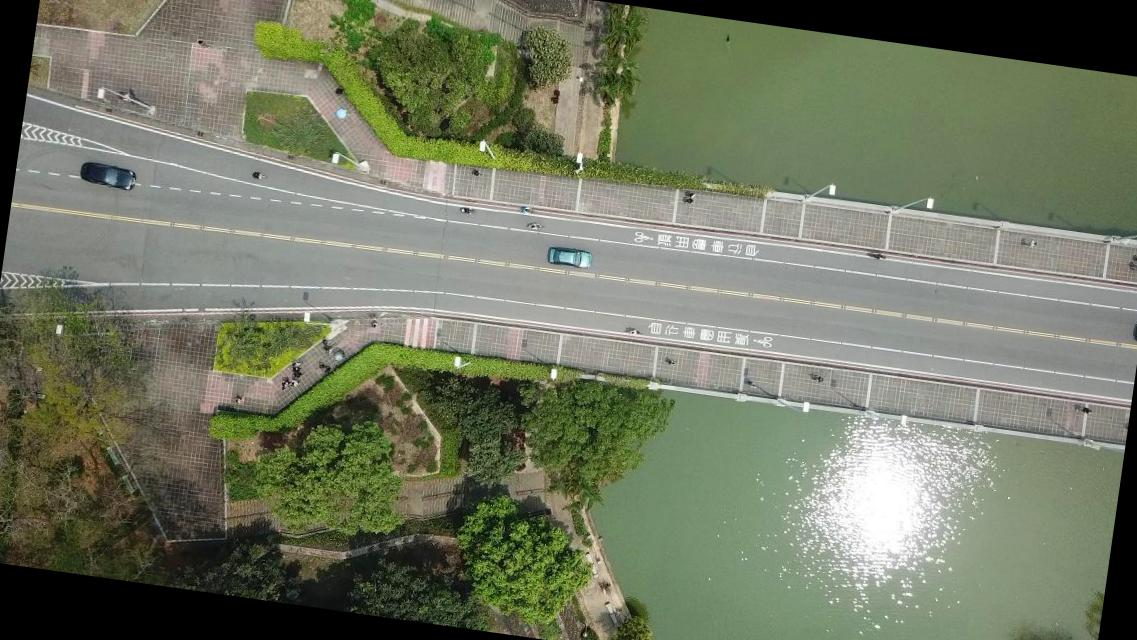vehicle: (77, 160, 136, 192), (546, 244, 592, 270)
